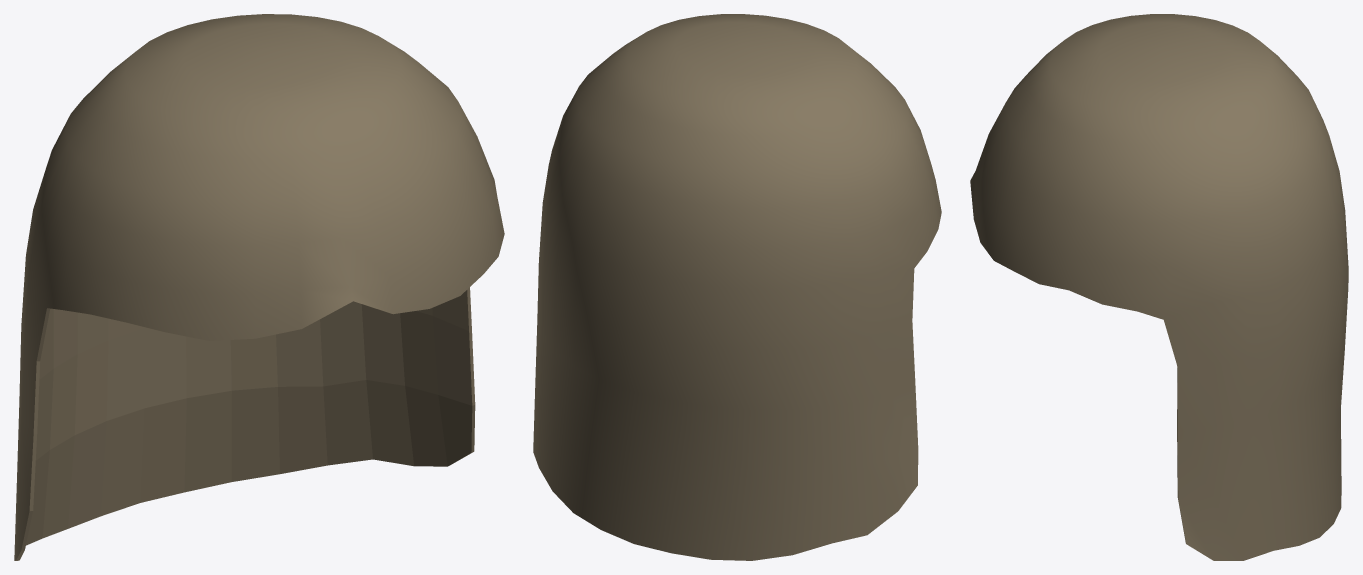
Rendered from LangHaar.fbx.
3 renders of one model, left to right at view 1: azimuth 30°, elevation 25°; view 2: azimuth 150°, elevation 25°; view 3: azimuth 270°, elevation 25°, orthographic. The views are drawn at different scales.
Parts seen in each view (by area): view 1: LangHaar1; view 2: LangHaar1; view 3: LangHaar1.
Boxes of the visible parts, x1=… form: LangHaar1: x1=14, y1=14, x2=504, y2=560; LangHaar1: x1=533, y1=14, x2=941, y2=560; LangHaar1: x1=970, y1=14, x2=1348, y2=560.
Size of the model in its own units: 254 by 282 by 215.
